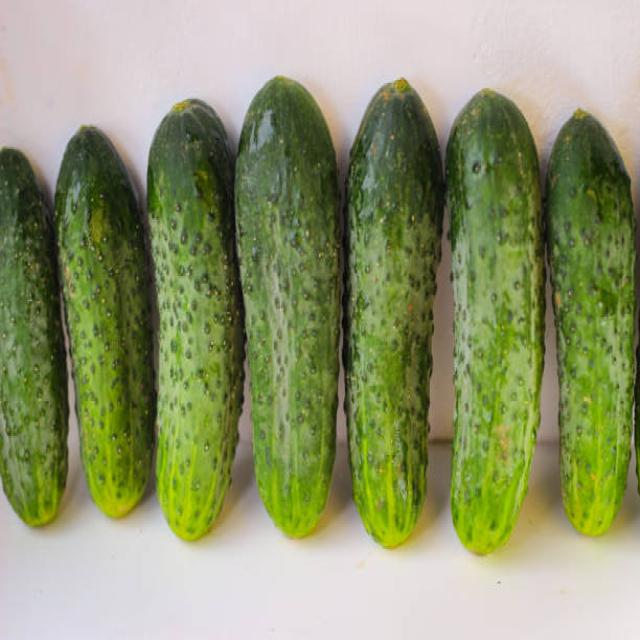cucumber: (233, 76, 342, 538), (443, 88, 548, 554), (342, 77, 445, 543), (145, 98, 243, 543), (50, 124, 156, 516), (543, 111, 637, 537), (0, 146, 70, 530)
